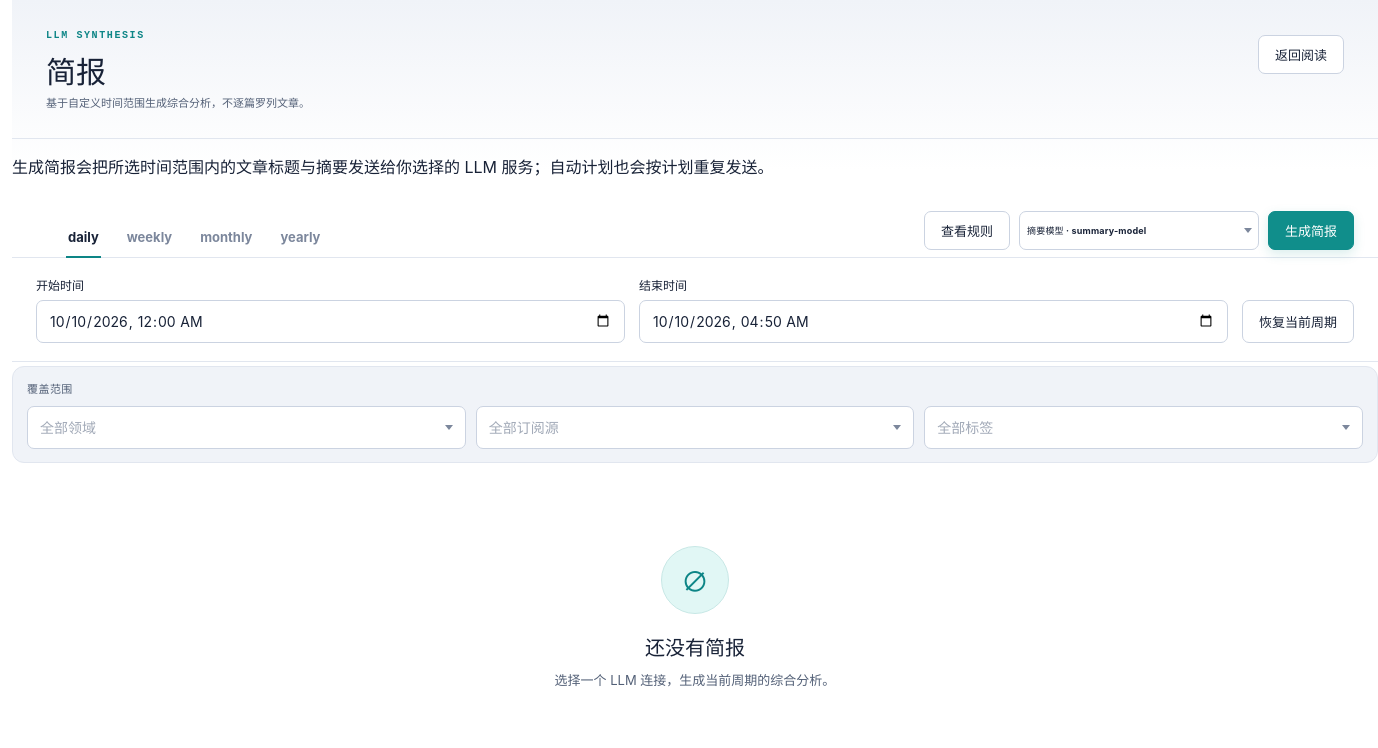
BriefWorkspace › keeps waiting when the request disconnects but the server job is running
The width and height of the screenshot is (1378, 748).
Click the button "生成简报" at (1311, 230), box [1268,211,1354,250]
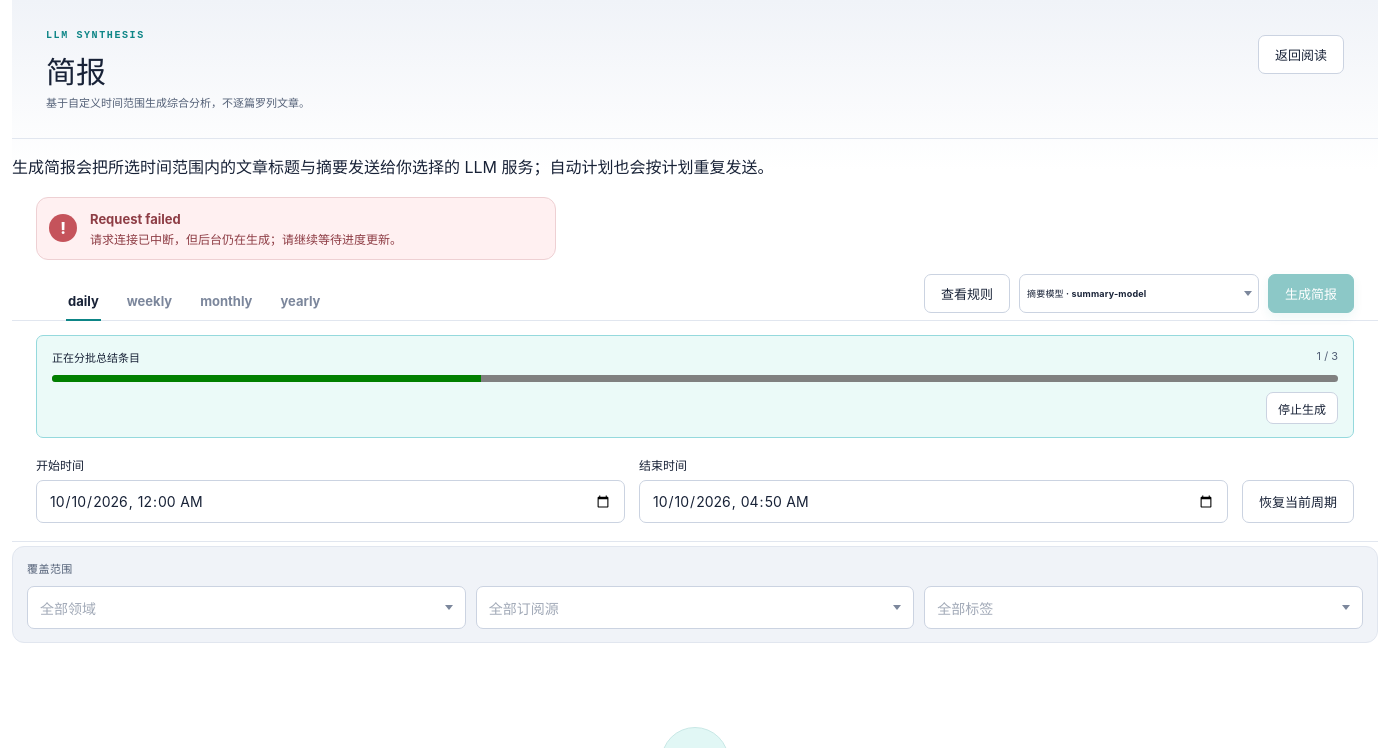
Now the text "请求连接已中断，但后台仍在生成；请继续等待进度更新。" is shown, box [90,232,402,247]
Now the text "正在分批总结条目" is shown, box [52,349,140,365]
Now the button "生成简报" is disabled, box [1268,274,1354,313]
